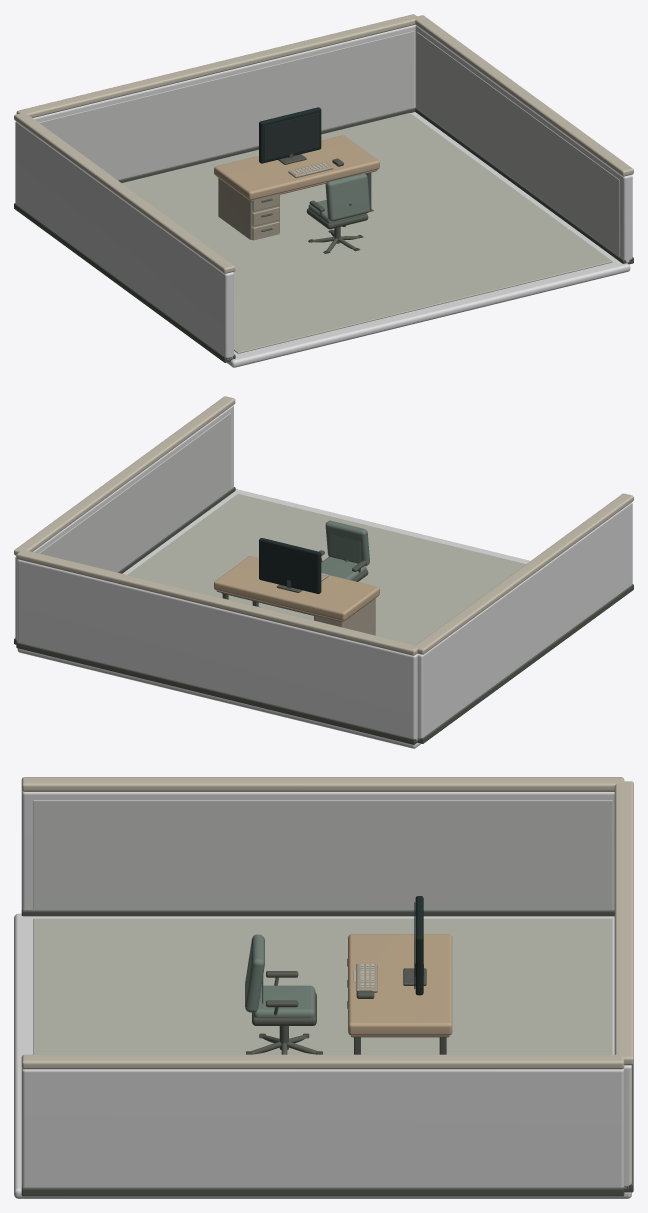
File: cubicle.glb
3 views of the same model, one above another, from view 1: azimuth 30°, elevation 25°; view 2: azimuth 150°, elevation 25°; view 3: azimuth 270°, elevation 25° (orthographic). The views are drawn at different scales.
Visible parts, largest first — view 1: FloorInlay, PartitionBack, PartitionLeft, PartitionRight, CubicleFloor, TrimBack, DeskTop, TrimLeft, TrimRight, Chair, Monitor, DeskFrame; view 2: PartitionBack, FloorInlay, PartitionLeft, PartitionRight, TrimBack, TrimLeft, DeskTop, TrimRight, CubicleFloor, Monitor, Chair, DeskFrame; view 3: PartitionRight, PartitionLeft, FloorInlay, TrimRight, TrimLeft, DeskTop, CubicleFloor, TrimBack, Chair, Monitor, PartitionBack, InputDevices.
Part boxes in pixels (x1,y1,x2,y2): FloorInlay: (122,113,612,353); PartitionBack: (33,25,415,180); PartitionLeft: (15,121,233,359); PartitionRight: (415,25,632,262); CubicleFloor: (226,112,630,367); TrimBack: (16,14,417,182); DeskTop: (214,135,379,201); TrimLeft: (14,113,235,362); TrimRight: (415,15,633,264); Chair: (306,173,369,253); Monitor: (259,107,321,164); DeskFrame: (218,172,373,240); PartitionBack: (17,559,417,740); FloorInlay: (127,494,525,645); PartitionLeft: (417,502,632,740); PartitionRight: (15,405,233,641); TrimBack: (16,550,417,744); TrimLeft: (415,493,633,743); DeskTop: (214,556,379,622); TrimRight: (14,396,235,644); CubicleFloor: (17,489,530,748); Monitor: (259,538,321,593); Chair: (319,520,369,581); DeskFrame: (221,593,375,635); PartitionRight: (21,1067,624,1187); PartitionLeft: (21,790,614,910); FloorInlay: (33,918,612,1054); TrimRight: (21,1054,624,1196); TrimLeft: (21,777,624,916); DeskTop: (348,934,452,1037); CubicleFloor: (14,913,631,1198); TrimBack: (614,781,633,1192); Chair: (245,934,322,1054); Monitor: (403,896,426,995); PartitionBack: (624,1065,631,1188); InputDevices: (353,963,377,998).
Size of the model in its own units: 8.75 by 2.07 by 8.03.
